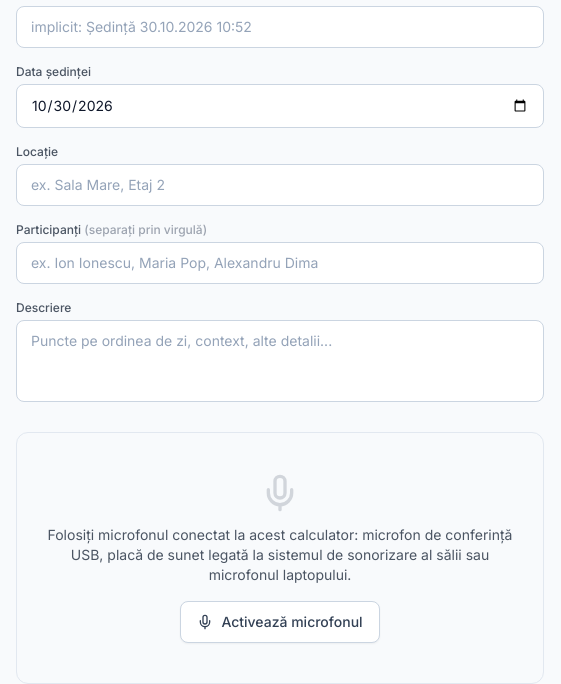
Scenario: Înregistrare din browser › accesul la microfon refuzat: mesaj cu ce e de făcut
(page scrolled)
Click the button "Activează microfonul". click: (280, 622)
box: [180,601,380,643]
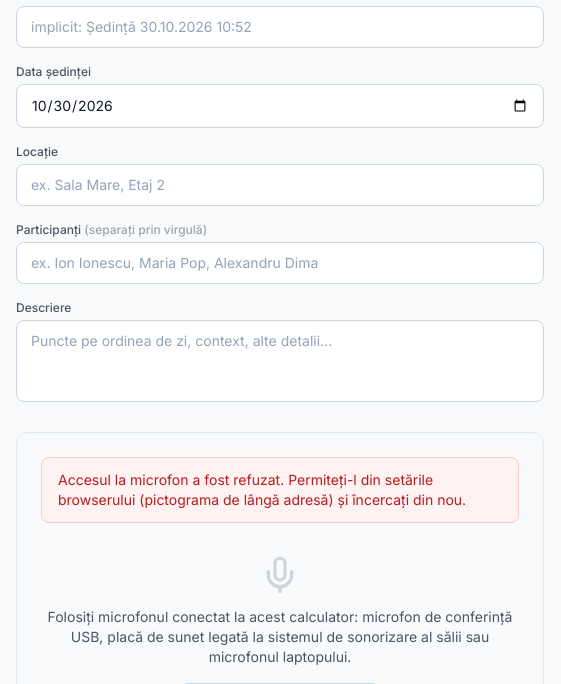
Expected: the text "Accesul la microfon a fost refuzat" is shown, [58,471,466,508]
